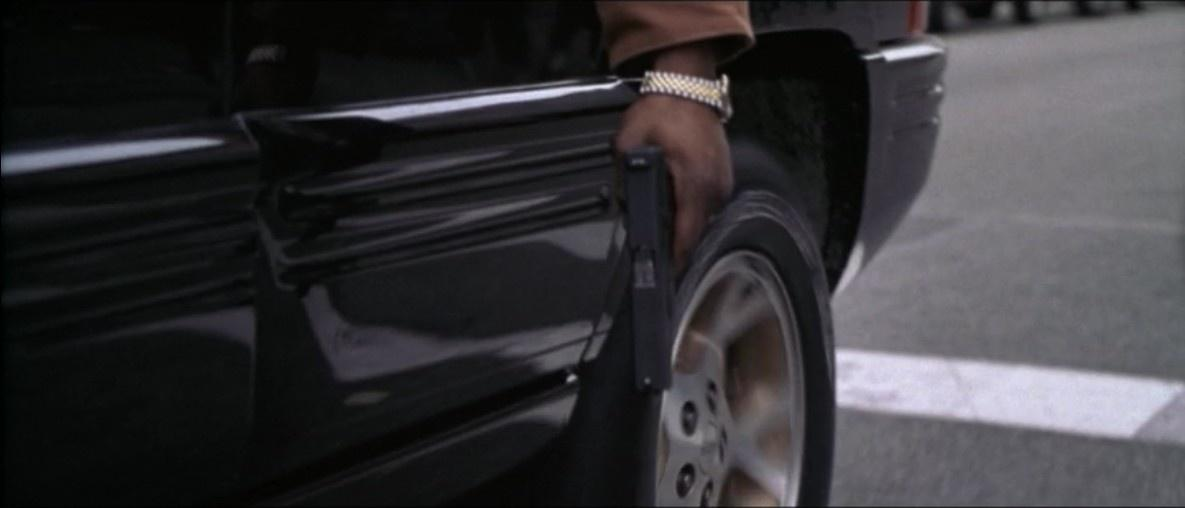gun: (607, 121, 742, 408)
